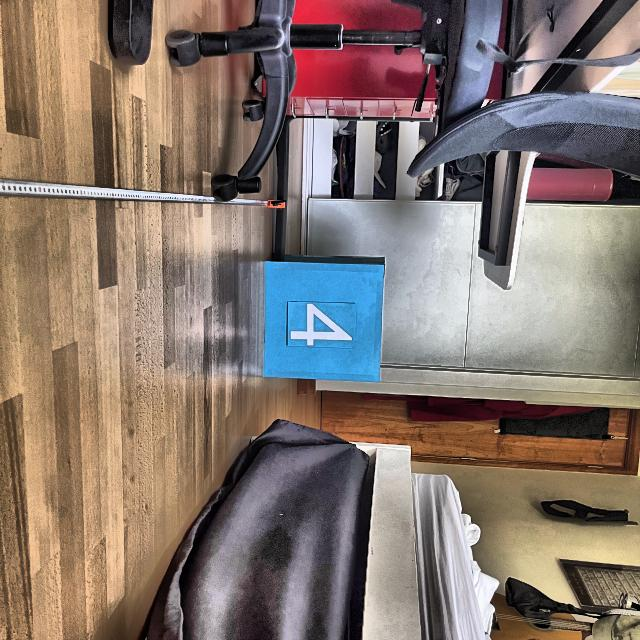blue box: (260, 252, 388, 384)
four: (288, 302, 355, 348)
